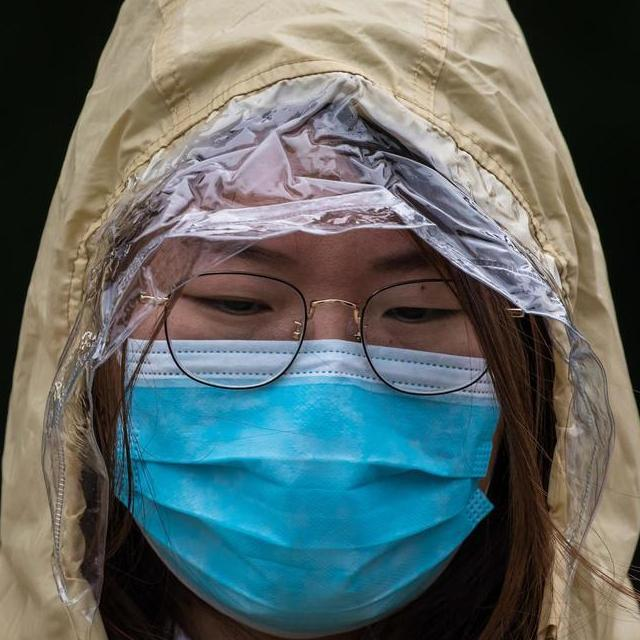Mask: (106, 340, 508, 638)
NO-Hardhat: (90, 0, 562, 250)
Person: (0, 0, 640, 640)
